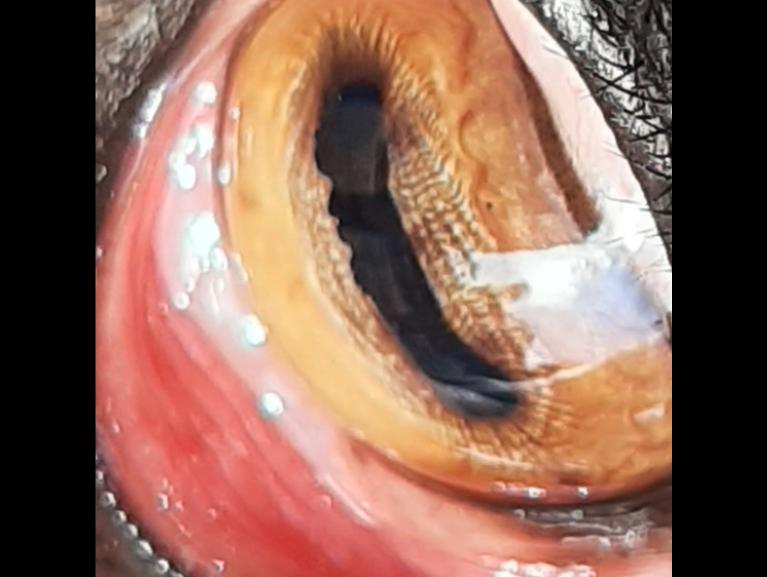eye_membrane: (97, 0, 672, 577)
